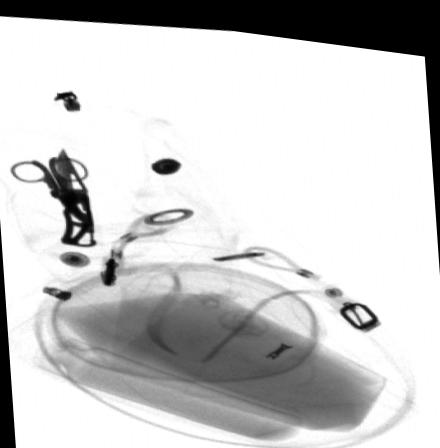Knife: (51, 143, 96, 243)
Scissors: (8, 152, 89, 214)
